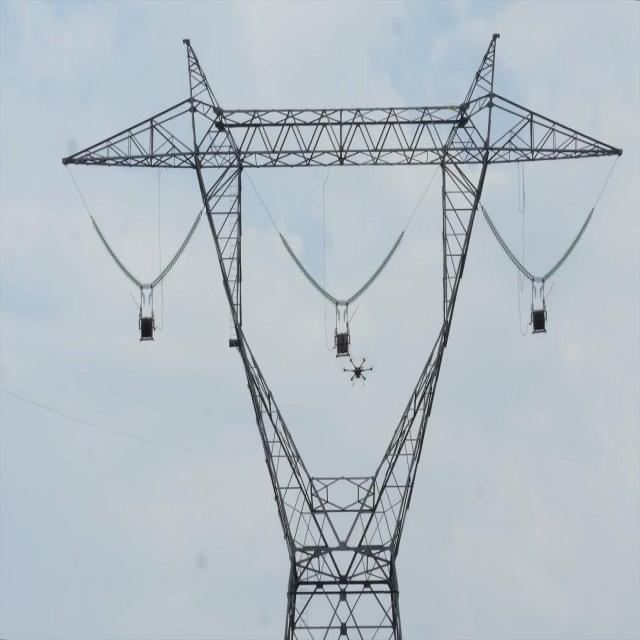drone: (342, 356, 372, 386)
